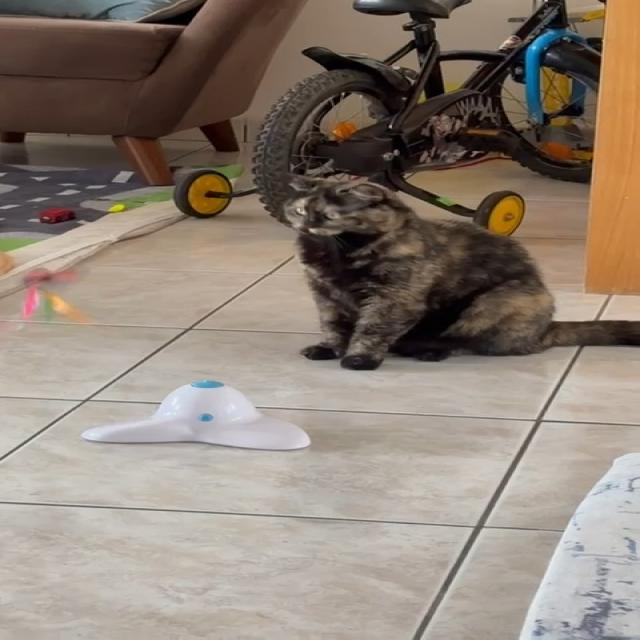authorized: (278, 172, 638, 370)
